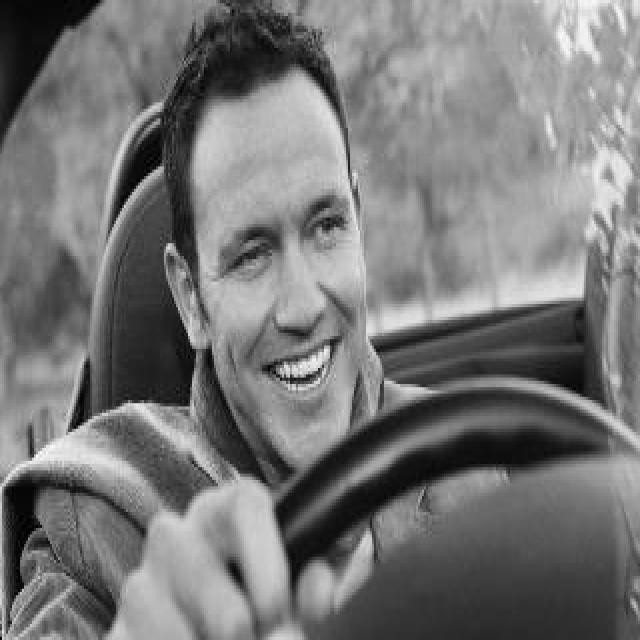Focused: (212, 155, 354, 448)
